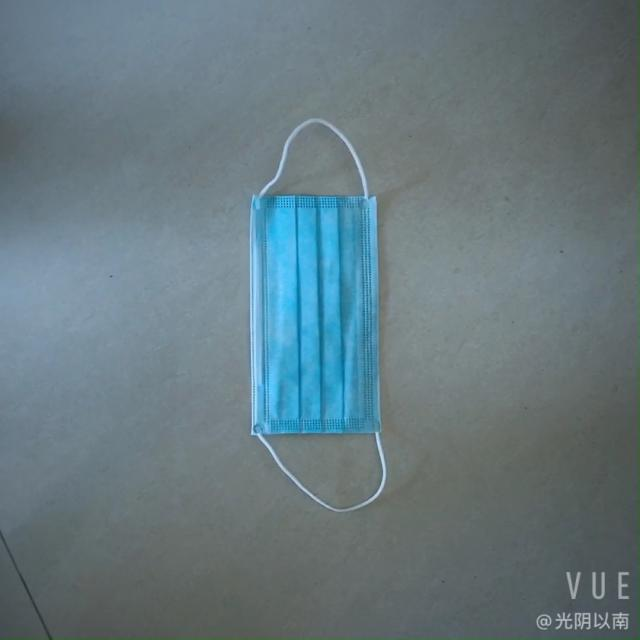non-organic waste: (236, 186, 398, 471)
